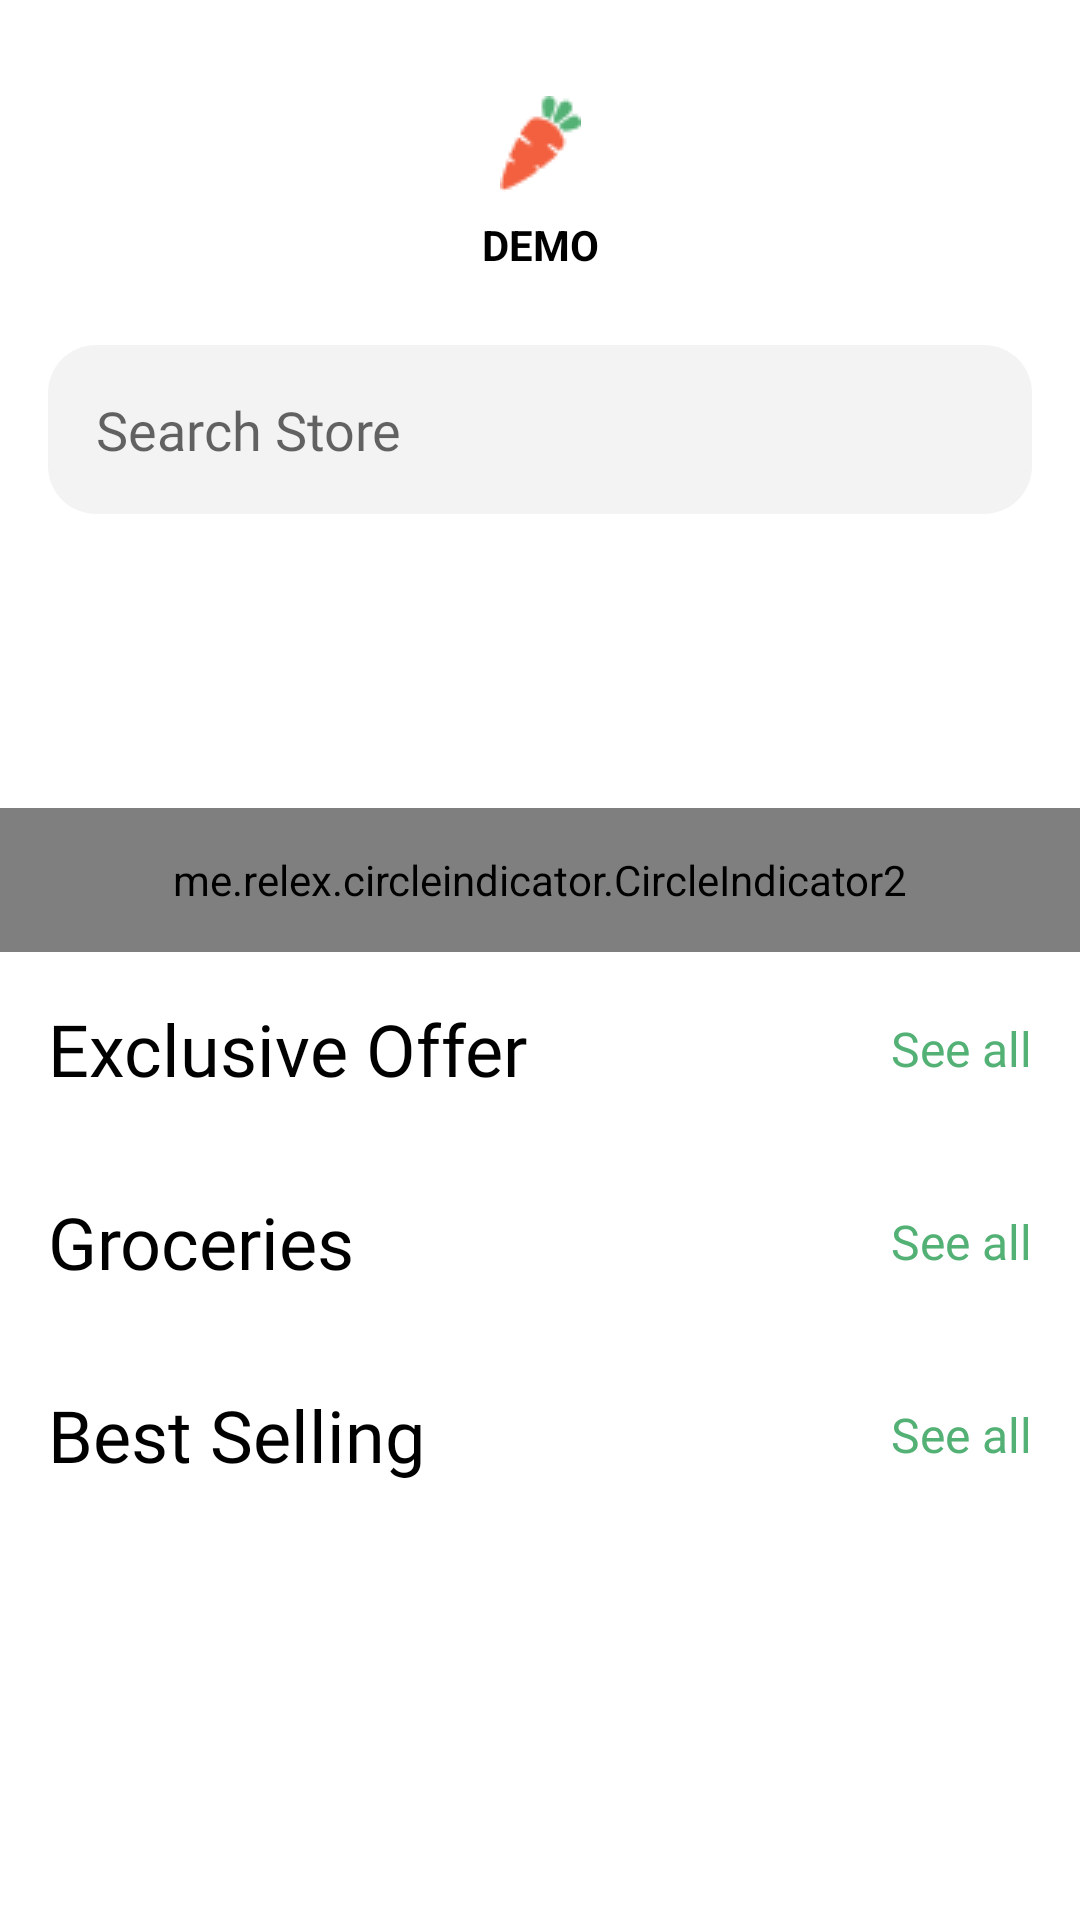

Screen size 1080×1920. Icon name, then its center in pixels as (x,y):
carrot: (540,143)
